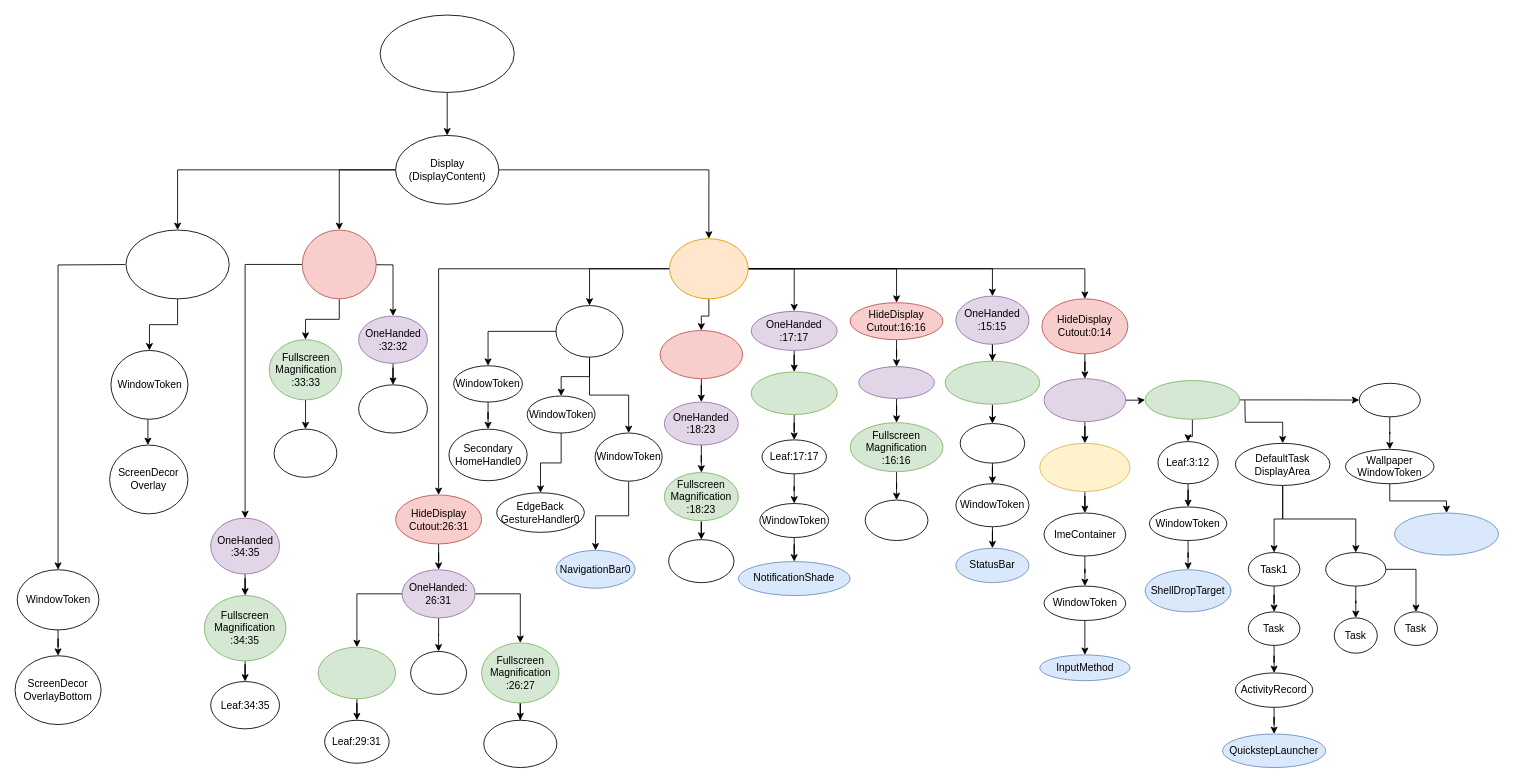
This 1514x783 diagram has some shape labels left out. The centre of each missing label's shape, as x and y in pixels:
"Fullscreen Magnification :0:12" belongs at (1192,399).
"Fullscreen Magnification :15:15" belongs at (992,382).
"Fullscreen Magnification :17:17" belongs at (793,393).
"Fullscreen Magnification :29:31" belongs at (356,672).
"HideDisplay Cutout:18:23" belongs at (701,354).
"HideDisplay Cutout:32:35" belongs at (338,264).
"ImageWallpaper" belongs at (1446,533).
"ImePlaceholder :13:14" belongs at (1084,466).
"Leaf:0:1" belongs at (1389,399).
"Leaf:15:15" belongs at (992,443).
"Leaf:16:16" belongs at (896,520).
"Leaf:18:23" belongs at (701,561).
"Leaf:24:25" belongs at (589,331).
"Leaf:26:27" belongs at (520,743).
"Leaf:28:28" belongs at (438,672).
"Leaf:32:32" belongs at (392,408).
"Leaf:33:33" belongs at (305,452).
"Leaf:36:36" belongs at (177,264).
"OneHanded :0:14" belongs at (1084,400).
"OneHanded :16:16" belongs at (896,382).
"ROOT (RootWindowContainer)" belongs at (446,53).
"Task2" belongs at (1355,569).
"Windowed Magnification :0:31" belongs at (708,268).
